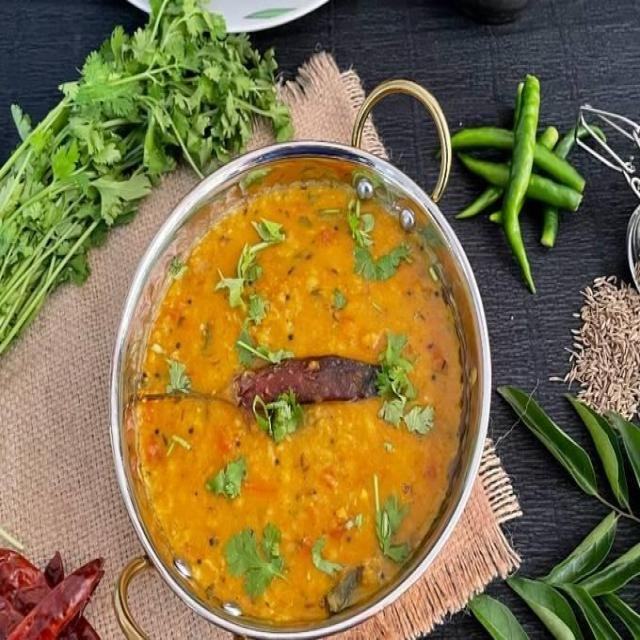dal: (135, 173, 464, 630)
